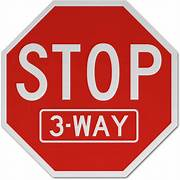stop: (1, 2, 180, 178)
